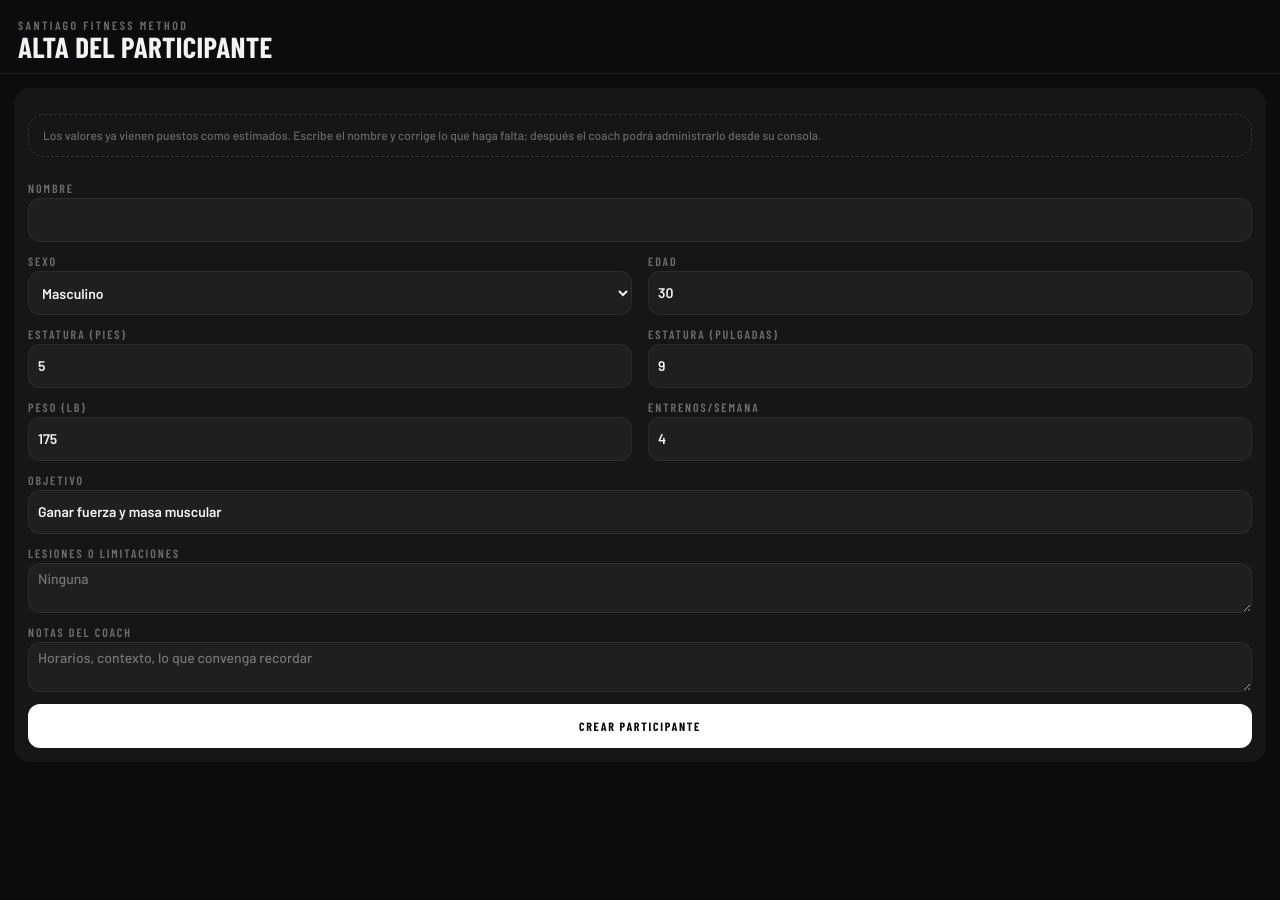
alta del participante (criterio 1) › avisa de todo lo que falta a la vez
Replace the text in the number field labelled "Edad" with "0" at (950, 293), box [648, 271, 1252, 315]
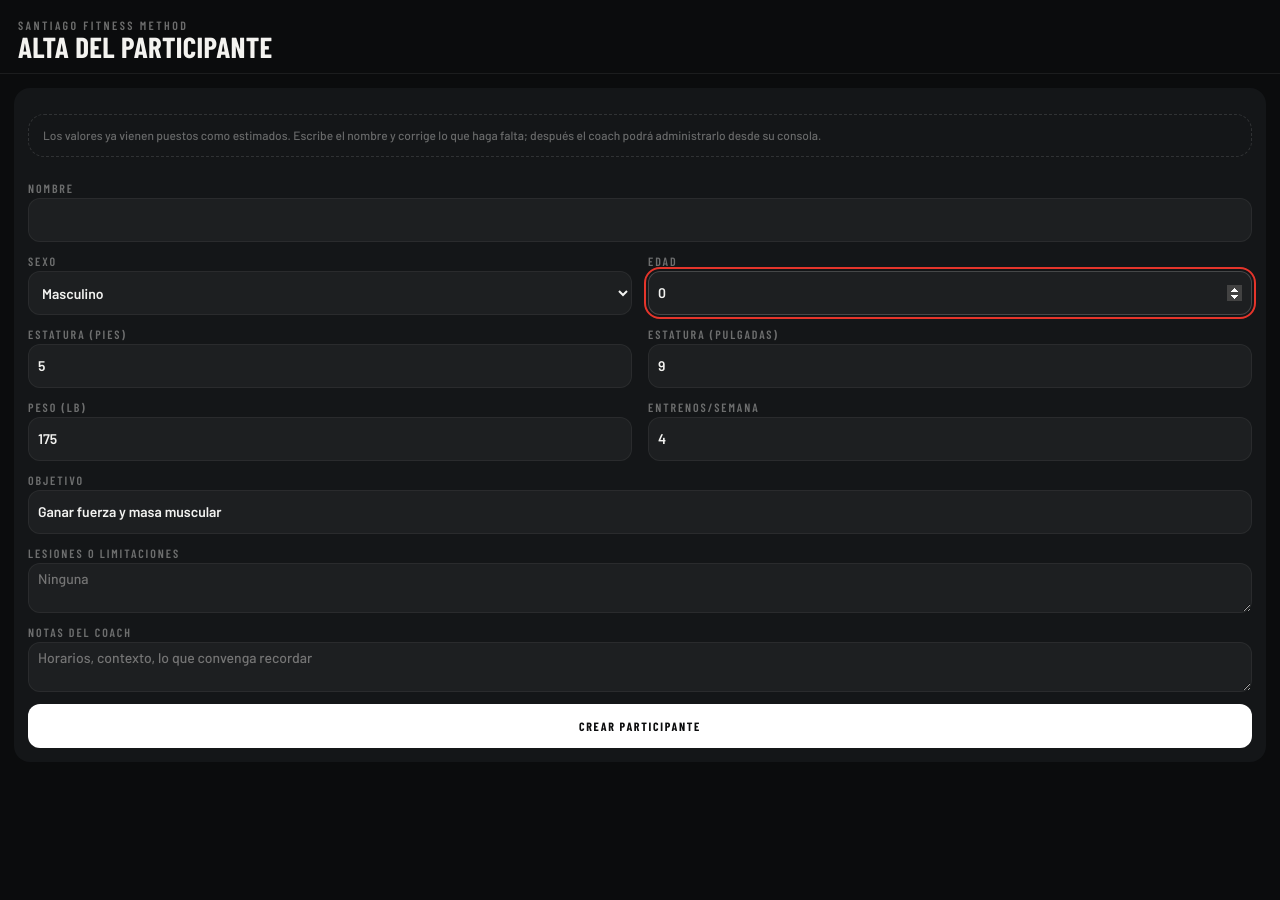
Click the button "Crear participante" at (640, 726), box [28, 704, 1252, 748]
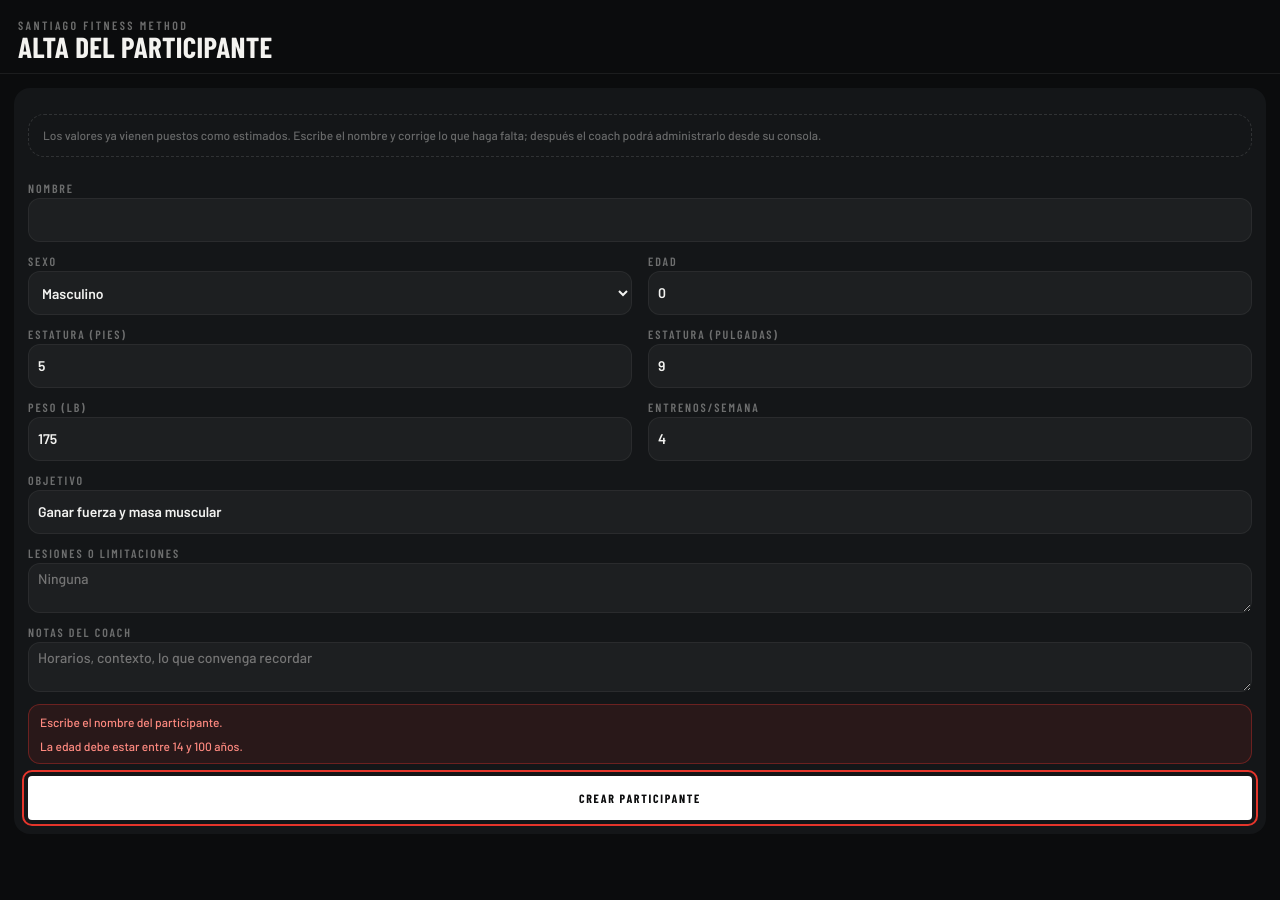
Check: the text "Escribe el nombre del participante." is shown, box [40, 715, 222, 729]
Check: the text "La edad debe estar entre 14 y 100 años." is shown, box [40, 739, 243, 753]
